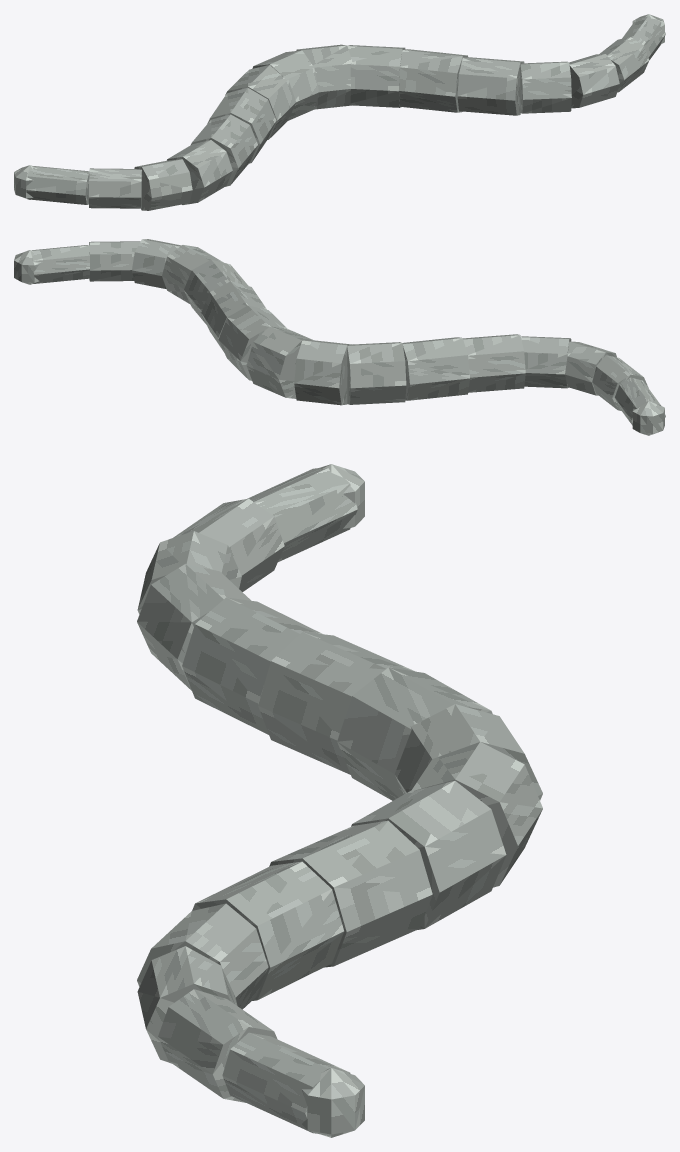
File: art_snake.glb
3 views of the same model, one above another, from view 1: azimuth 30°, elevation 25°; view 2: azimuth 150°, elevation 25°; view 3: azimuth 270°, elevation 25° (orthographic). The views are drawn at different scales.
Visible parts, largest first — view 1: block_winding rod 10, block_winding rod 11, block_winding rod 9, block_winding rod 12, block_winding rod 8, block_winding rod 3, block_winding rod 2, block_winding rod 13, block_winding rod 1, block_winding rod 4, block_winding rod 0, block_winding rod 5 (+5 smaller); view 2: block_winding rod 5, block_winding rod 6, block_winding rod 7, block_winding rod 4, block_winding rod 8, block_winding rod 9, block_winding rod 3, block_winding rod 15, block_winding rod 10, block_winding rod 14, block_winding rod 11, block_rounded tip (×2) (+5 smaller); view 3: block_winding rod 10, block_winding rod 5, block_winding rod 9, block_winding rod 11, block_winding rod 4, block_winding rod 6, block_winding rod 8, block_winding rod 14, block_winding rod 15, block_winding rod 3, block_winding rod 12, block_winding rod 0 (+5 smaller).
Boxes of the visible parts, x1,y1,x2,y2 form: block_winding rod 10: (399,49,467,112); block_winding rod 11: (457,57,524,115); block_winding rod 9: (347,45,405,107); block_winding rod 12: (520,61,571,113); block_winding rod 8: (296,44,352,109); block_winding rod 3: (167,140,232,204); block_winding rod 2: (134,159,192,210); block_winding rod 13: (569,54,619,108); block_winding rod 1: (89,168,141,208); block_winding rod 4: (191,114,257,186); block_winding rod 0: (26,166,89,204); block_winding rod 5: (207,87,276,163); block_winding rod 5: (402,337,469,400); block_winding rod 6: (347,342,406,404); block_winding rod 7: (294,340,351,405); block_winding rod 4: (463,334,525,392); block_winding rod 8: (246,326,313,398); block_winding rod 9: (218,305,286,380); block_winding rod 3: (521,336,571,388); block_winding rod 15: (32,245,89,283); block_winding rod 10: (201,281,266,351); block_winding rod 14: (89,241,140,281); block_winding rod 11: (184,259,248,324); block_rounded tip (×2): (14,250,664,435); block_winding rod 10: (269,820,432,967); block_winding rod 5: (258,632,415,774); block_winding rod 9: (351,781,506,929); block_winding rod 11: (192,861,344,1000); block_winding rod 4: (182,597,322,734); block_winding rod 6: (337,667,492,800); block_winding rod 8: (411,742,542,887); block_winding rod 14: (158,989,277,1102); block_winding rod 15: (222,1032,350,1133); block_winding rod 3: (137,564,250,690); block_winding rod 12: (137,903,268,1009); block_winding rod 0: (247,468,357,561).
Size of the model in its own units: 0.65 by 0.0568 by 0.1766.
Materials: 1 (1 with a texture image).
